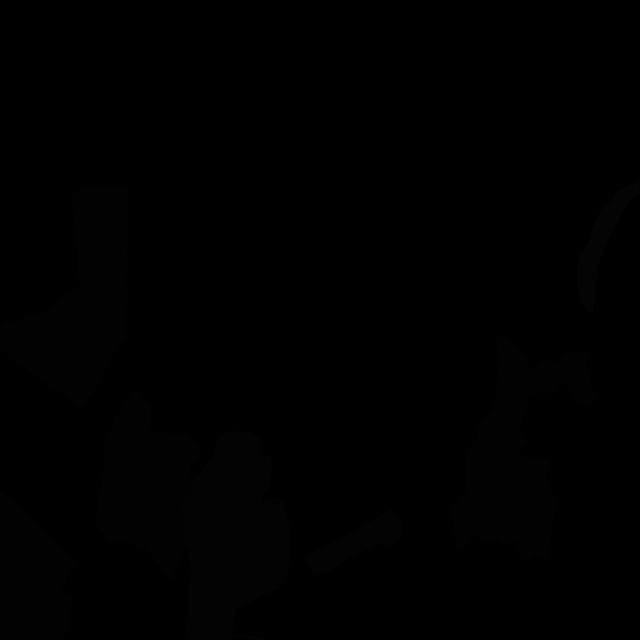cardboard: (452, 333, 596, 564), (0, 185, 130, 407), (94, 387, 202, 582), (0, 490, 78, 640)
metal: (176, 431, 290, 640), (304, 509, 403, 576)
soft_plastic: (577, 179, 640, 313)
